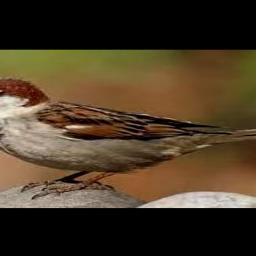Sparrow: (0, 77, 256, 198)
